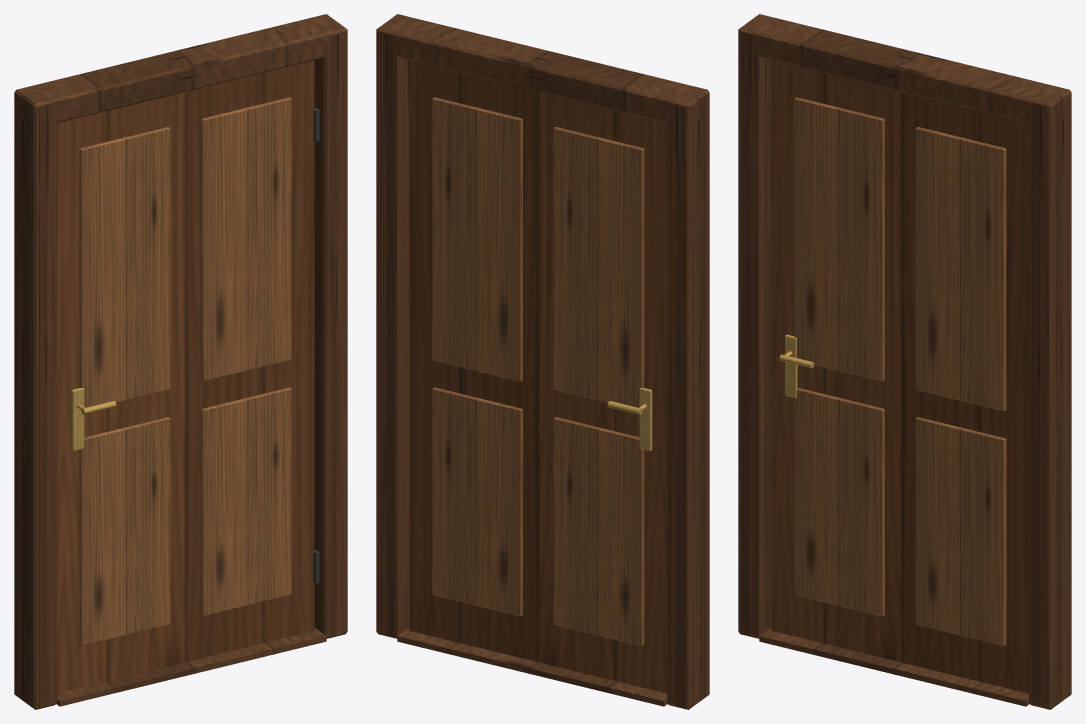
File: OB_Drzwi.fbx
3 views of the same model, side by side, from view 1: azimuth 30°, elevation 25°; view 2: azimuth 150°, elevation 25°; view 3: azimuth 330°, elevation 25° (orthographic).
Parts seen in each view (by area): view 1: Skrzydlo, Oscieznica; view 2: Skrzydlo, Oscieznica; view 3: Skrzydlo, Oscieznica.
Boxes of the visible parts, x1,y1,x2,y2 form: Skrzydlo: [57, 60, 319, 693]; Oscieznica: [14, 14, 347, 709]; Skrzydlo: [409, 60, 666, 693]; Oscieznica: [376, 14, 709, 709]; Skrzydlo: [771, 60, 1028, 693]; Oscieznica: [738, 14, 1071, 709].
Size of the model in its own units: 1.19 by 2.2 by 0.192.
